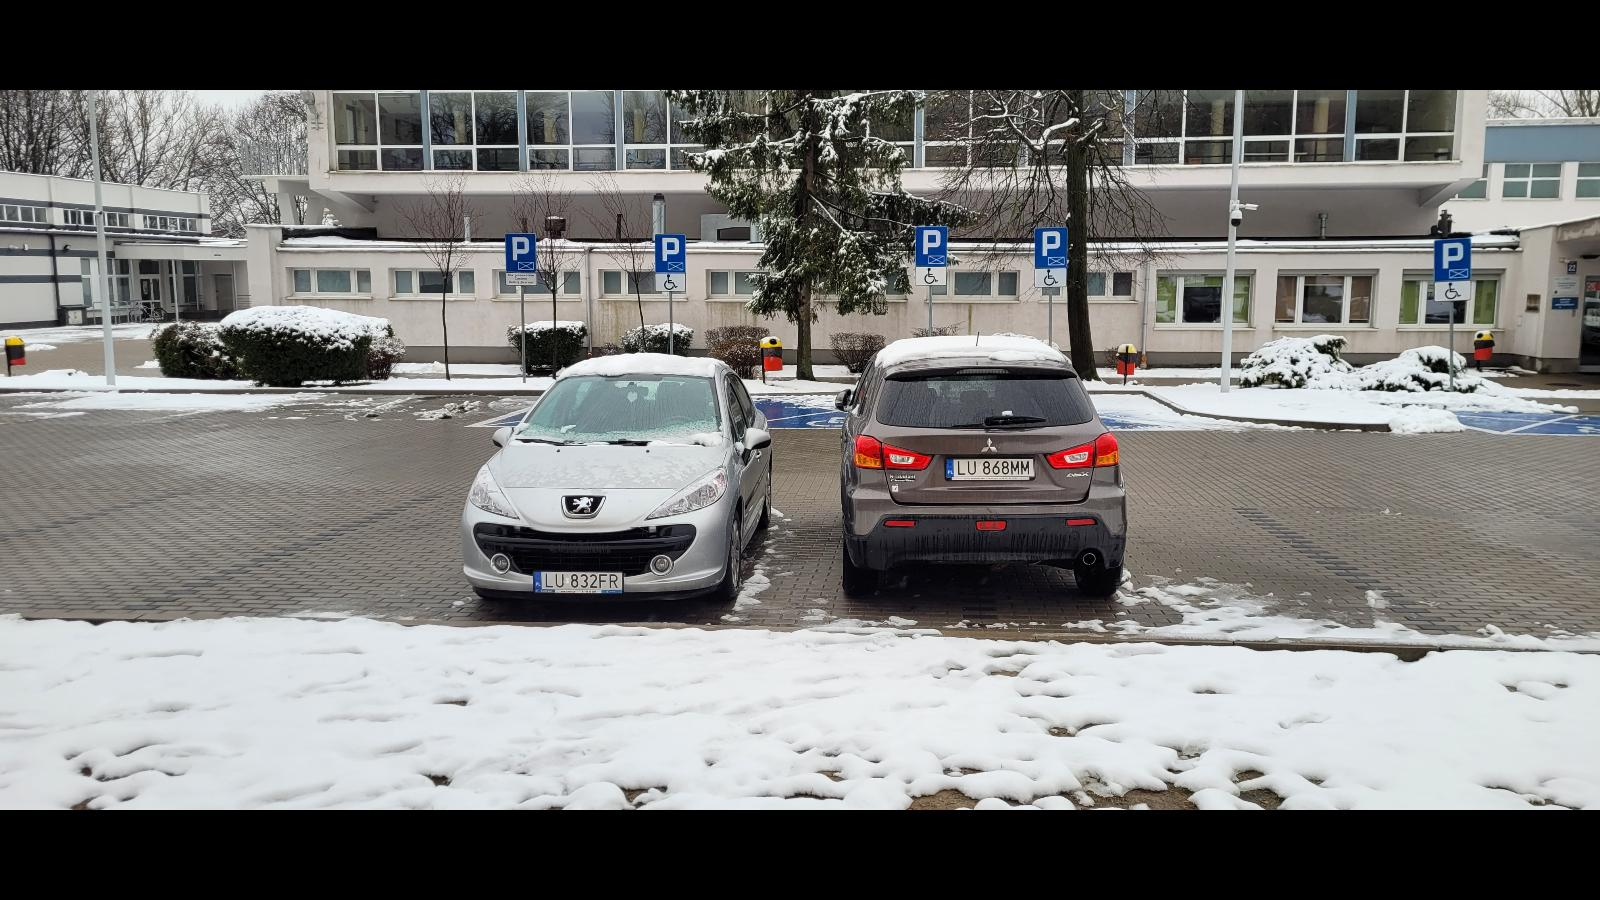plates: (534, 571, 624, 593), (946, 458, 1034, 480)
